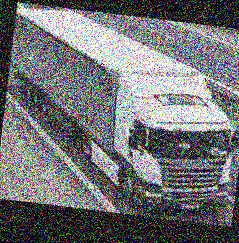truck: (0, 5, 239, 227)
